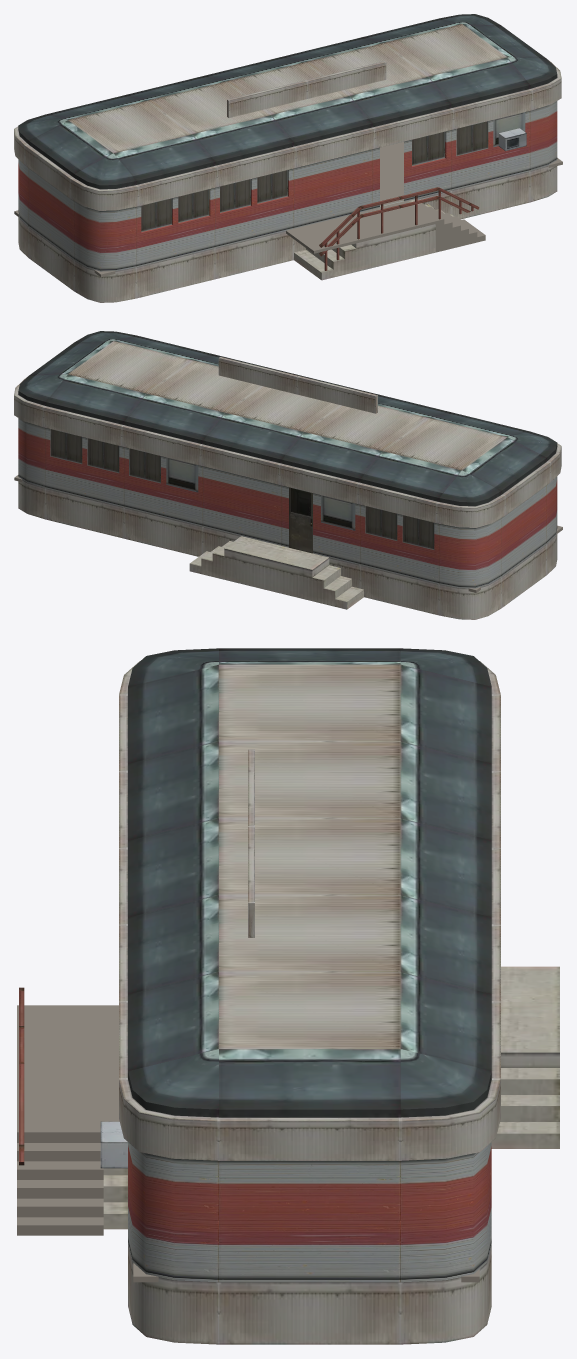
File: rural-diner.zfix-v1.lod0.glb
The picture shows the model from 3 angles, top to bottom: view 1: azimuth 30°, elevation 25°; view 2: azimuth 150°, elevation 25°; view 3: azimuth 270°, elevation 25°; orthographic projection. The views are drawn at different scales.
Visible parts, largest first — view 1: Rural_Diner_1_Rural_Facade_FLR_2_0, Rural_Diner_1_Rural_Trailer_Stuff_1_0, Walkable floors and stairs; view 2: Rural_Diner_1_Rural_Facade_FLR_2_0, Rural_Diner_1_Rural_Trailer_Stuff_1_0; view 3: Rural_Diner_1_Rural_Facade_FLR_2_0, Rural_Diner_1_Rural_Trailer_Stuff_1_0, Walkable floors and stairs.
Boxes of the visible parts, <box> form: Rural_Diner_1_Rural_Facade_FLR_2_0: <box>14,14,561,302</box>; Rural_Diner_1_Rural_Trailer_Stuff_1_0: <box>18,101,557,271</box>; Walkable floors and stairs: <box>14,142,562,277</box>; Rural_Diner_1_Rural_Facade_FLR_2_0: <box>14,331,561,619</box>; Rural_Diner_1_Rural_Trailer_Stuff_1_0: <box>18,418,557,588</box>; Rural_Diner_1_Rural_Facade_FLR_2_0: <box>19,648,559,1344</box>; Rural_Diner_1_Rural_Trailer_Stuff_1_0: <box>128,1142,491,1282</box>; Walkable floors and stairs: <box>17,1005,479,1282</box>.
Size of the model in its own units: 18.3 by 5.31 by 8.96.
3 materials, 2 textured.
